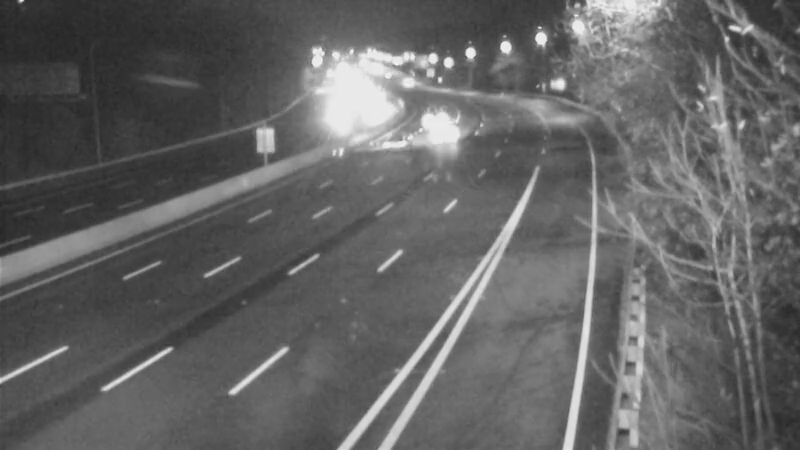vehicle: (411, 94, 461, 144), (419, 106, 469, 156), (367, 118, 417, 168)
